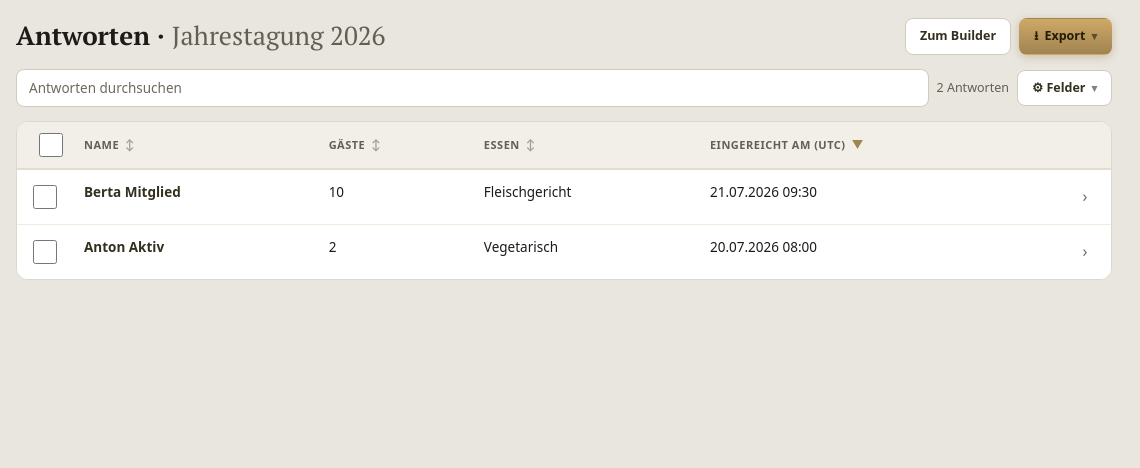
Test: ResponsesView › the export asks for visible or all columns (Konzept Nr. 27) › preselects „Alle Spalten", while the table keeps its three questions
Expected: the heading "Antworten · Jahrestagung 2026" is shown, [16,21,386,51]
Click the button "⭳ Export ▾": (1066,36) [1019,18,1112,55]
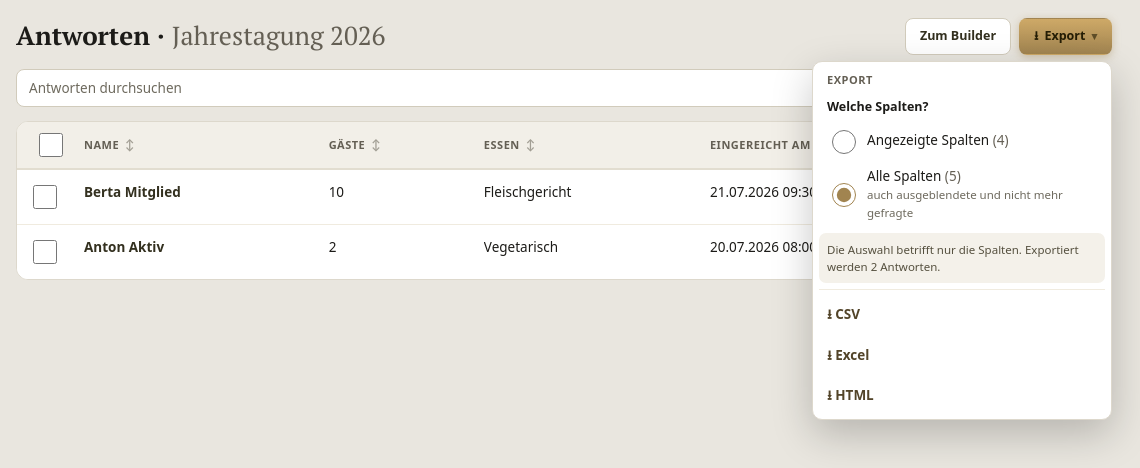
Now the radio button labelled "Alle Spalten (5) auch ausgeblendete und nicht mehr gefragte" is checked, box [832,183,856,207]
Now the radio button labelled "Angezeigte Spalten (4)" is not checked, box [832,130,856,154]
